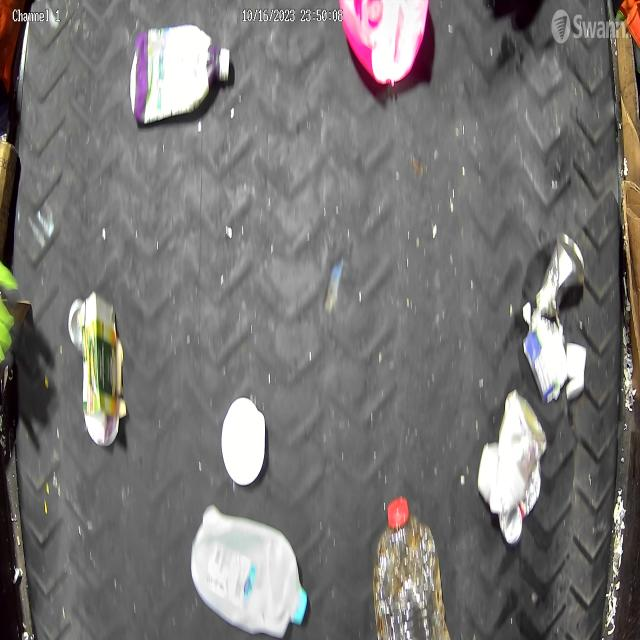can: (535, 234, 585, 318), (67, 296, 83, 349)
milk_jug: (189, 505, 312, 640)
non_white_jug: (340, 0, 433, 91)
plastic_bottle: (372, 494, 451, 640)
